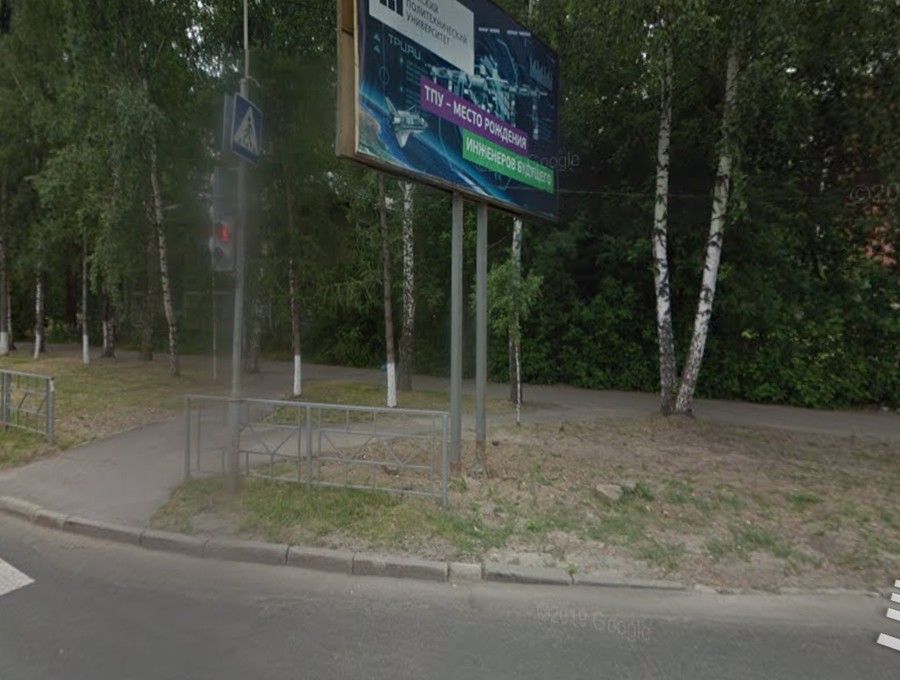Traffic Light-red: (204, 221, 241, 276)
